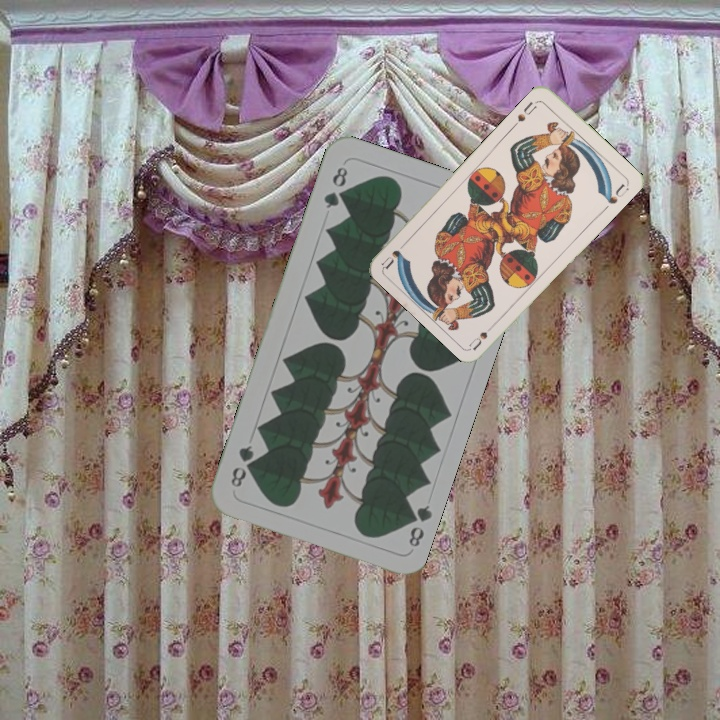G8: (401, 501, 434, 550), (319, 162, 350, 212)
SU: (466, 317, 500, 352), (509, 97, 541, 130)
